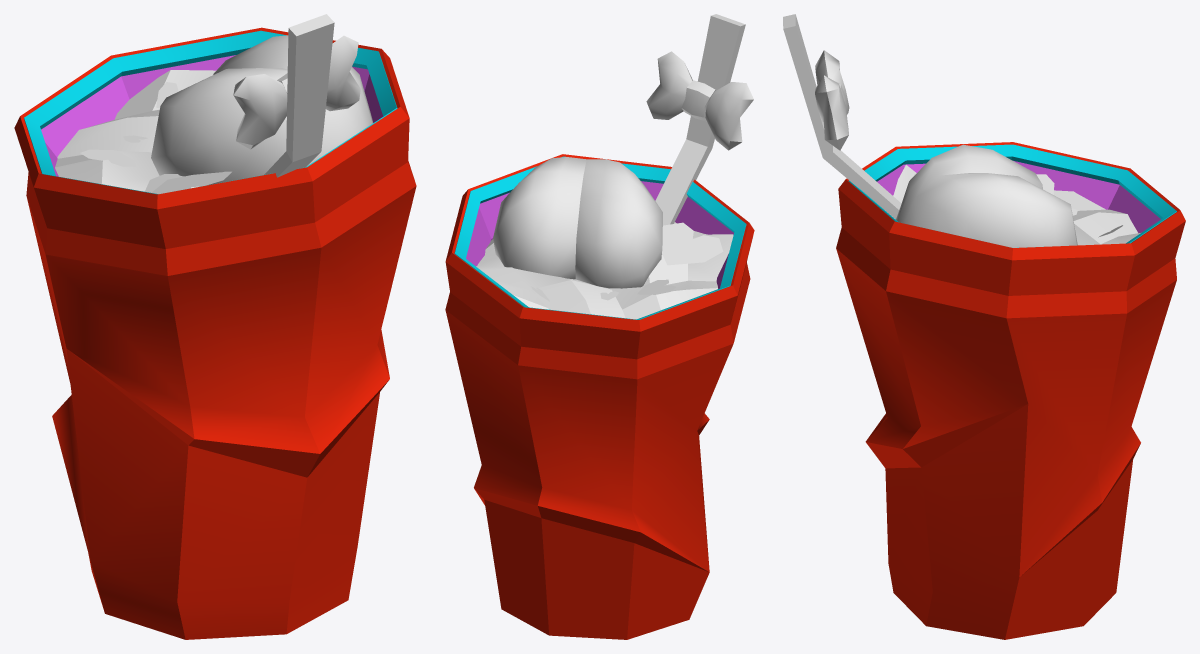
Rendered from SM_Drink_Fiak.fbx.
3 renders of one model, left to right at view 1: azimuth 30°, elevation 25°; view 2: azimuth 150°, elevation 25°; view 3: azimuth 270°, elevation 25°, orthographic. The views are drawn at different scales.
Visible parts, largest first — view 1: SM_Glass_Fiak, SM_FiakToppings, SM_RedGlassTop; view 2: SM_Glass_Fiak, SM_FiakToppings, SM_RedGlassTop; view 3: SM_Glass_Fiak, SM_FiakToppings, SM_RedGlassTop.
Part boxes in pixels (x1,y1,x2,y2): SM_Glass_Fiak: [14, 27, 416, 639]; SM_FiakToppings: [80, 14, 373, 193]; SM_RedGlassTop: [55, 70, 216, 192]; SM_Glass_Fiak: [445, 154, 754, 639]; SM_FiakToppings: [493, 14, 753, 301]; SM_RedGlassTop: [476, 222, 733, 319]; SM_Glass_Fiak: [836, 142, 1185, 639]; SM_FiakToppings: [783, 14, 1122, 247]; SM_RedGlassTop: [892, 165, 1140, 245].
Size of the model in its own units: 22.23 by 39.35 by 25.69.
